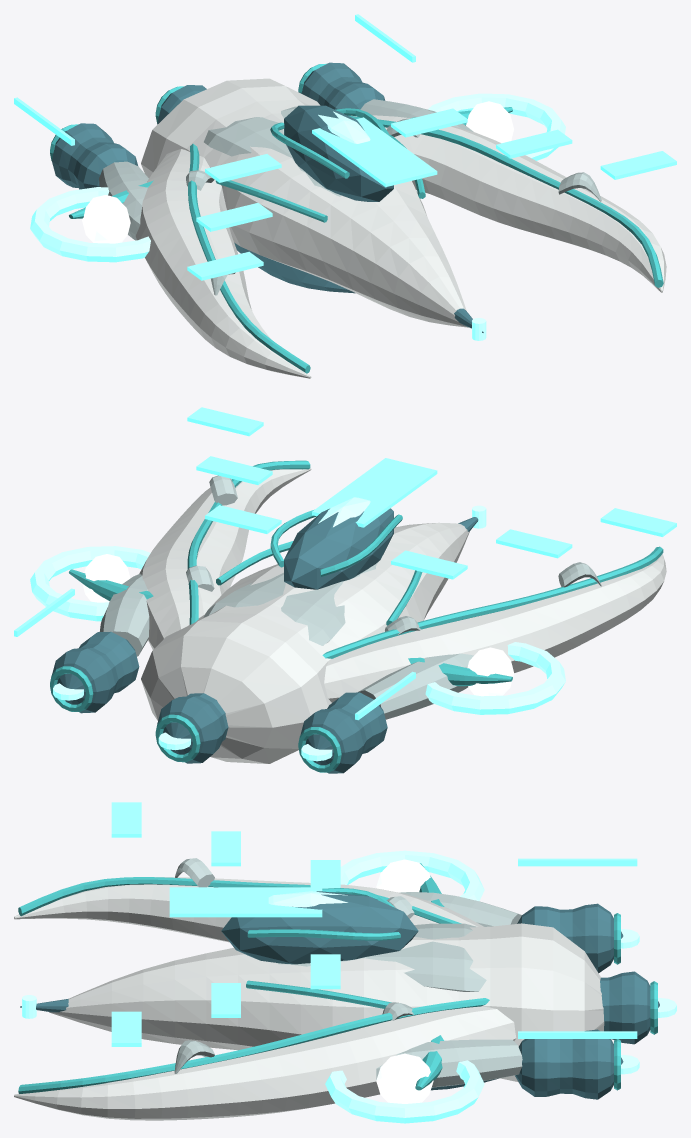
The model's file is SL_SERAPH_HQ.glb.
The picture shows the model from 3 angles, top to bottom: view 1: azimuth 30°, elevation 25°; view 2: azimuth 150°, elevation 25°; view 3: azimuth 270°, elevation 25°; orthographic projection. The views are drawn at different scales.
Visible parts, largest first — view 1: armor, dark, V59 trim baked, accent, energy, plate, core; view 2: armor, dark, V59 trim baked, plate, accent, energy, core; view 3: armor, dark, V59 trim baked, plate, accent, energy, core.
Part boxes in pixels (x1,y1,x2,y2): armor: (135, 78, 666, 378); dark: (52, 62, 483, 332); V59 trim baked: (14, 14, 676, 280); accent: (50, 63, 663, 373); energy: (30, 93, 565, 340); plate: (99, 99, 601, 295); core: (82, 101, 513, 243); armor: (139, 468, 666, 763); dark: (52, 508, 478, 773); V59 trim baked: (14, 407, 676, 720); plate: (99, 475, 601, 719); accent: (50, 460, 663, 772); energy: (30, 497, 565, 761); core: (82, 554, 513, 696); armor: (14, 877, 604, 1120); dark: (20, 891, 659, 1099); V59 trim baked: (111, 802, 637, 1046); plate: (174, 858, 522, 1087); accent: (18, 863, 657, 1093); energy: (22, 850, 676, 1123); core: (376, 859, 433, 1103).
Size of the model in its own units: 5.39 by 1.78 by 5.77.
